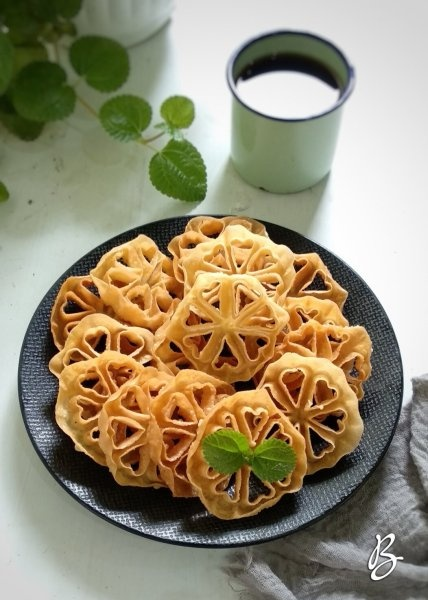kembang_goyang: (175, 265, 287, 378)
